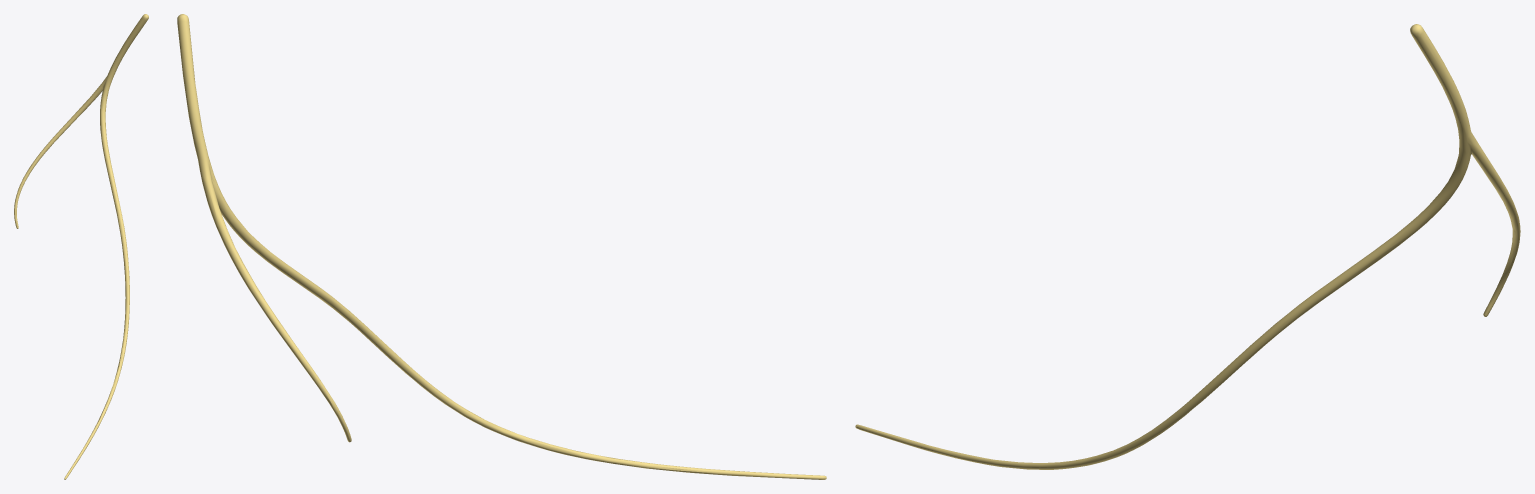
File: fma80524_fj3958.glb
The picture shows the model from 3 angles, left to right: view 1: azimuth 30°, elevation 25°; view 2: azimuth 150°, elevation 25°; view 3: azimuth 270°, elevation 25°; orthographic projection. The views are drawn at different scales.
Visible parts, largest first — view 1: FMA80524_FJ3958; view 2: FMA80524_FJ3958; view 3: FMA80524_FJ3958.
Boxes of the visible parts, left/top/right/bottom form: FMA80524_FJ3958: left=14, top=14, right=148, bottom=479; FMA80524_FJ3958: left=177, top=14, right=826, bottom=479; FMA80524_FJ3958: left=855, top=24, right=1520, bottom=469.
Bounding box in the file's own units: 0.0303 × 0.04 × 0.0389.
